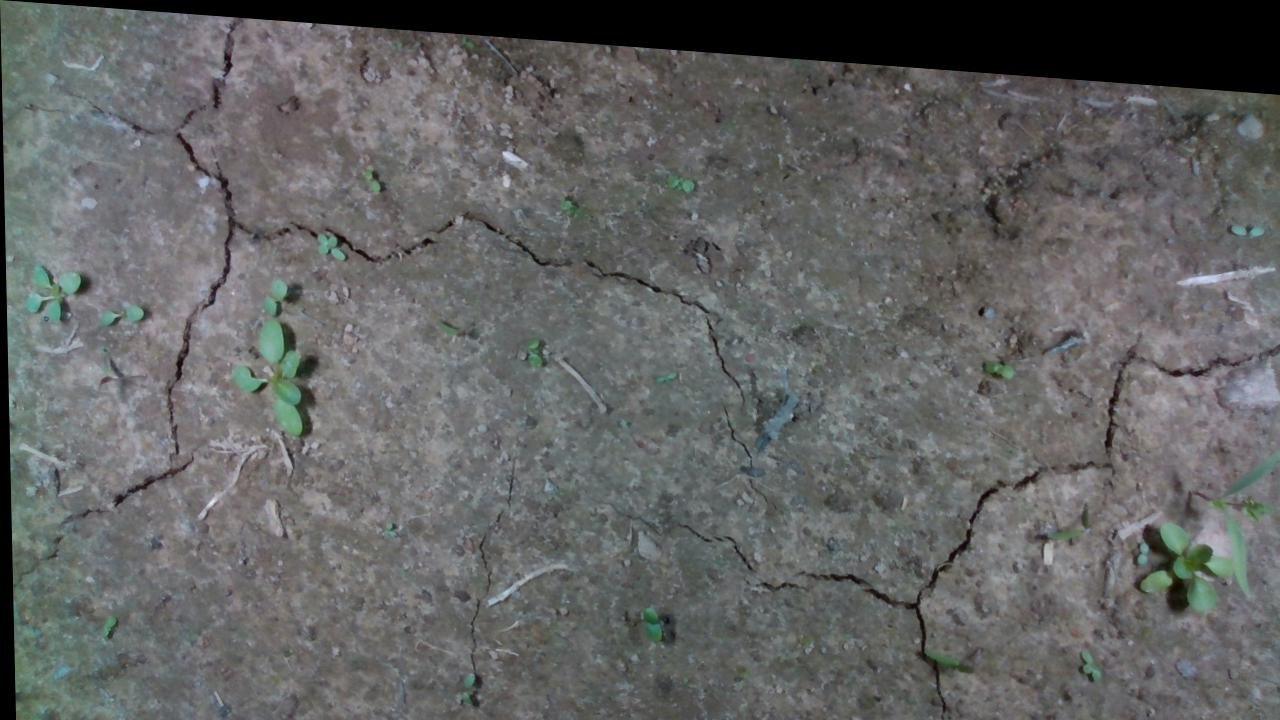weed: (96, 293, 158, 337), (312, 222, 347, 262), (633, 592, 664, 634), (983, 338, 1027, 367), (662, 155, 700, 188), (450, 660, 479, 699), (1071, 626, 1098, 662), (1225, 199, 1268, 221), (517, 323, 539, 365), (88, 610, 115, 641), (649, 354, 685, 375), (356, 158, 380, 188), (552, 182, 578, 206)
